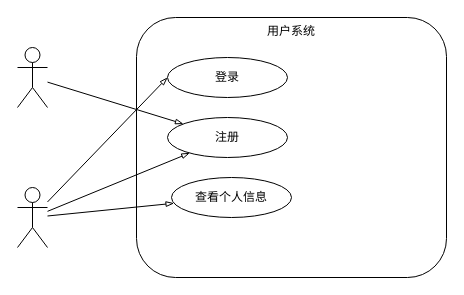
The diagram is 464 pixels wide and 295 high, and some of its shapes have lost their labels. The box of each missing label's shape, as (x1, y1, x2, y2) in pixels:
游客: (16, 46, 48, 108)
用户: (16, 186, 48, 248)
